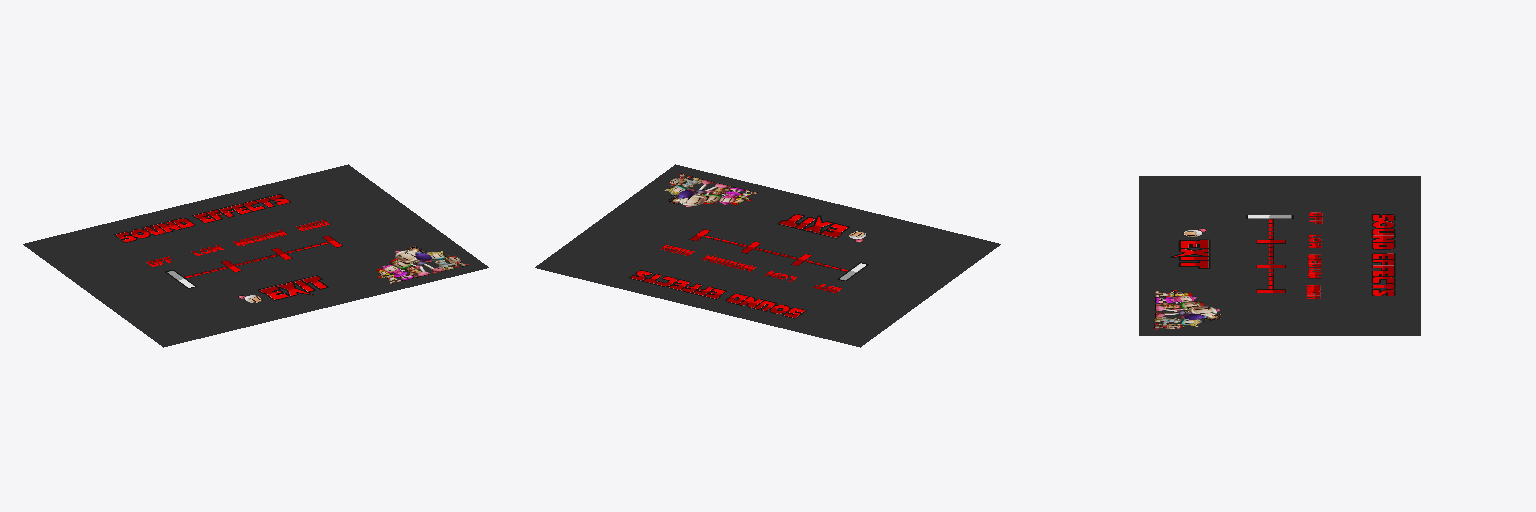
3 renders of one model, left to right at view 1: azimuth 30°, elevation 25°; view 2: azimuth 150°, elevation 25°; view 3: azimuth 270°, elevation 25°, orthographic.
Parts seen in each view (by area): view 1: Plane; view 2: Plane; view 3: Plane.
Boxes of the visible parts, x1,y1,x2,y2 form: Plane: [23, 164, 488, 347]; Plane: [535, 164, 1000, 347]; Plane: [1139, 176, 1420, 335].
Size of the model in its own units: 16 by 0 by 12.
1 materials, 1 textured.